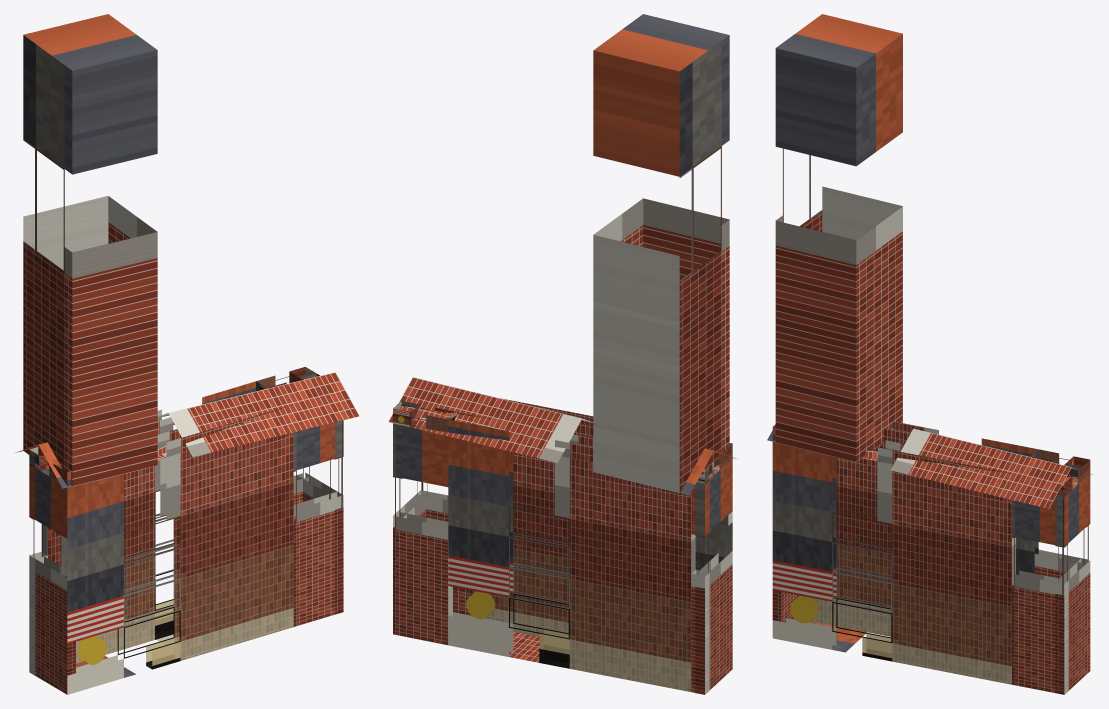
3 views of the same model, side by side, from view 1: azimuth 30°, elevation 25°; view 2: azimuth 150°, elevation 25°; view 3: azimuth 330°, elevation 25° (orthographic). The views are drawn at different scales.
Visible parts, largest first — view 1: 238536146__chimney_0_xb, 238536146__wall_0_xb, 238536146_roof_-1_xb, 238536146__wall_4_xb, 238536146__wall_1_xb, 238536146__wall_6_xb, 238536146__wall_2_xb, 238536146__wall_5_xb, 238536146__cornice_0, 238536146__cornice_4, 238536146__wall_0_xf; view 2: 238536146__chimney_0_xb, 238536146__wall_4_xb, 238536146__wall_0_xb, 238536146__wall_3_xb, 238536146_roof_1_xb, 238536146__wall_6_xb, 238536146__wall_5_xb, 238536146__cornice_4, 238536146__wall_1_xb, 238536146__wall_4_xf, 238536146__cornice_3, 238536146__base (+1 smaller); view 3: 238536146__chimney_0_xb, 238536146__wall_0_xb, 238536146__wall_4_xb, 238536146__wall_1_xb, 238536146_roof_-1_xb, 238536146__wall_2_xb, 238536146__cornice_4, 238536146__cornice_0, 238536146__wall_3_xb, 238536146__wall_0_xf, 238536146__wall_6_xb, 238536146__base.
Part boxes in pixels (box(x1,y1,x2,y2)): 238536146__chimney_0_xb: box(23, 14, 157, 486); 238536146__wall_0_xb: box(61, 432, 293, 694); 238536146_roof_-1_xb: box(38, 372, 359, 488); 238536146__wall_4_xb: box(41, 459, 173, 663); 238536146__wall_1_xb: box(293, 420, 343, 626); 238536146__wall_6_xb: box(29, 467, 75, 694); 238536146__wall_2_xb: box(297, 420, 343, 614); 238536146__wall_5_xb: box(29, 464, 47, 675); 238536146__cornice_0: box(56, 404, 292, 486); 238536146__cornice_4: box(157, 381, 267, 434); 238536146__wall_0_xf: box(146, 639, 180, 668); 238536146__chimney_0_xb: box(593, 14, 729, 493); 238536146__wall_4_xb: box(448, 436, 695, 691); 238536146__wall_0_xb: box(472, 452, 732, 637); 238536146__wall_3_xb: box(393, 423, 452, 645); 238536146_roof_1_xb: box(388, 377, 713, 495); 238536146__wall_6_xb: box(695, 459, 732, 694); 238536146__wall_5_xb: box(691, 480, 709, 694); 238536146__cornice_4: box(448, 412, 593, 462); 238536146__wall_1_xb: box(416, 490, 472, 615); 238536146__wall_4_xf: box(539, 630, 569, 667); 238536146__cornice_3: box(393, 401, 456, 432); 238536146__base: box(509, 631, 542, 662); 238536146__chimney_0_xb: box(775, 14, 902, 462); 238536146__wall_0_xb: box(772, 442, 1015, 684); 238536146__wall_4_xb: box(811, 442, 1038, 636); 238536146__wall_1_xb: box(1012, 494, 1068, 694); 238536146_roof_-1_xb: box(767, 428, 1071, 508); 238536146__wall_2_xb: box(1055, 474, 1090, 694); 238536146__cornice_4: box(884, 421, 1038, 457); 238536146__cornice_0: box(772, 424, 1011, 473); 238536146__wall_3_xb: box(1034, 479, 1090, 578); 238536146__wall_0_xf: box(862, 634, 891, 660); 238536146__wall_6_xb: box(772, 590, 799, 622); 238536146__base: box(809, 621, 866, 652).
Size of the model in its own units: 0.5234 by 1.05 by 0.1507.
Materials: 1 (1 with a texture image).
